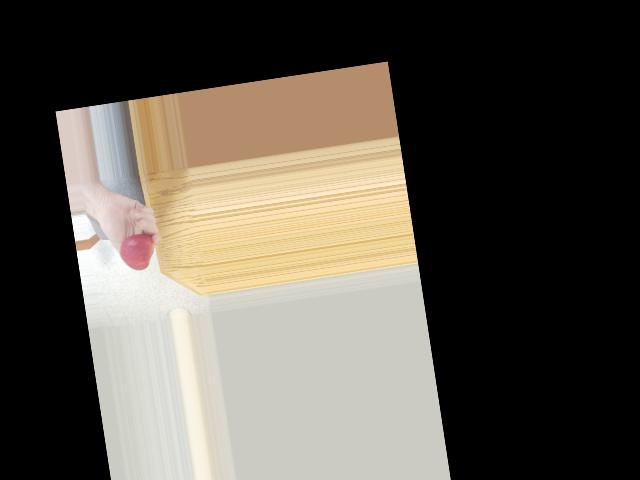apple: (116, 229, 159, 274)
